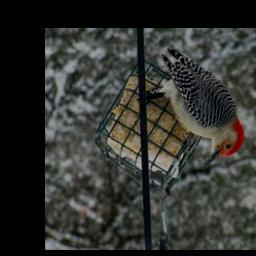Woodpecker: (141, 48, 244, 164)
